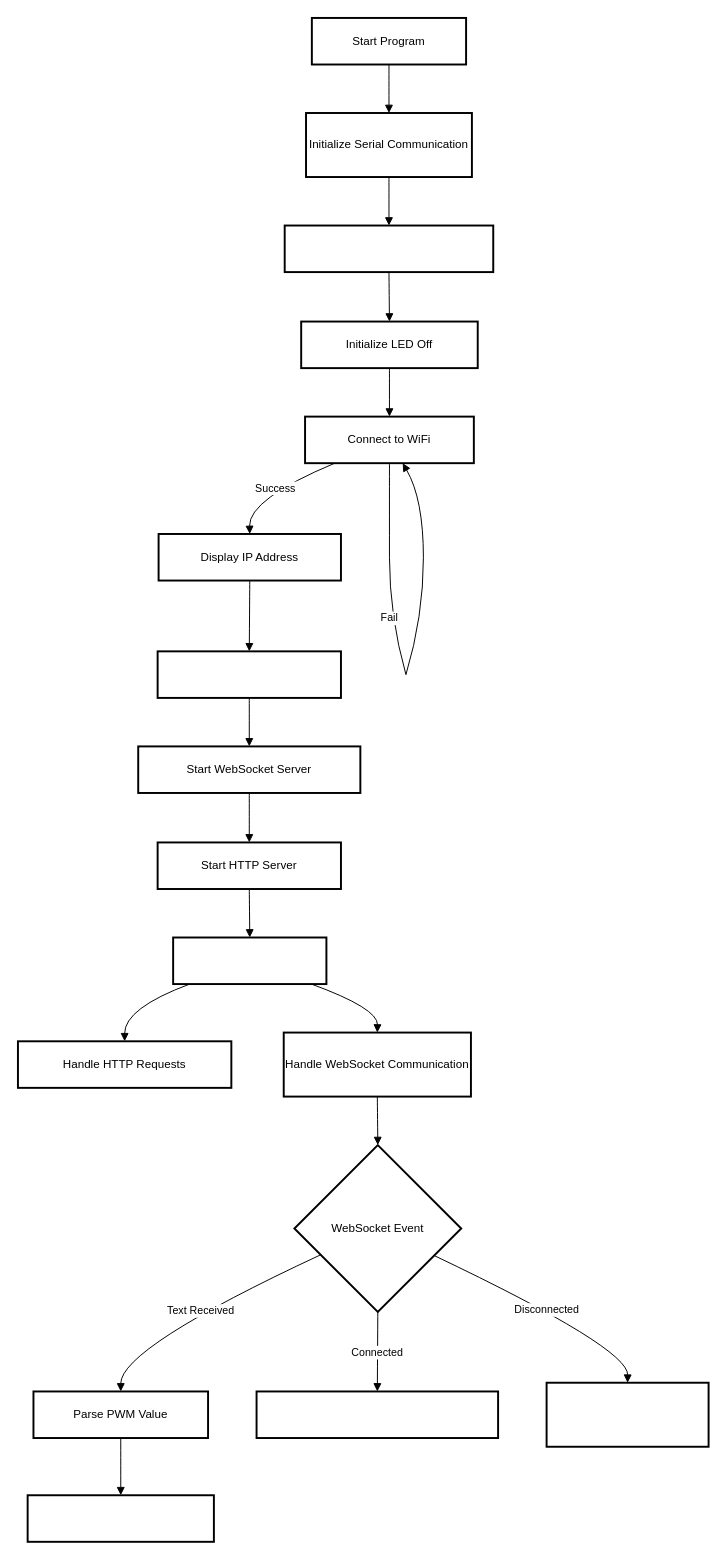
This 726x1559 diagram has some shape labels left out. The centre of each missing label's shape, as x and y in pixels:
"Log WebSocket Connected" belongs at (x=377, y=1414).
"Log WebSocket Disconnected" belongs at (x=627, y=1414).
"Program Loop" belongs at (x=249, y=960).
"Set LED Brightness" belongs at (x=120, y=1518).
"Set LED Pin as Output" belongs at (x=388, y=248).
"Setup HTTP Route" belongs at (x=248, y=674).
